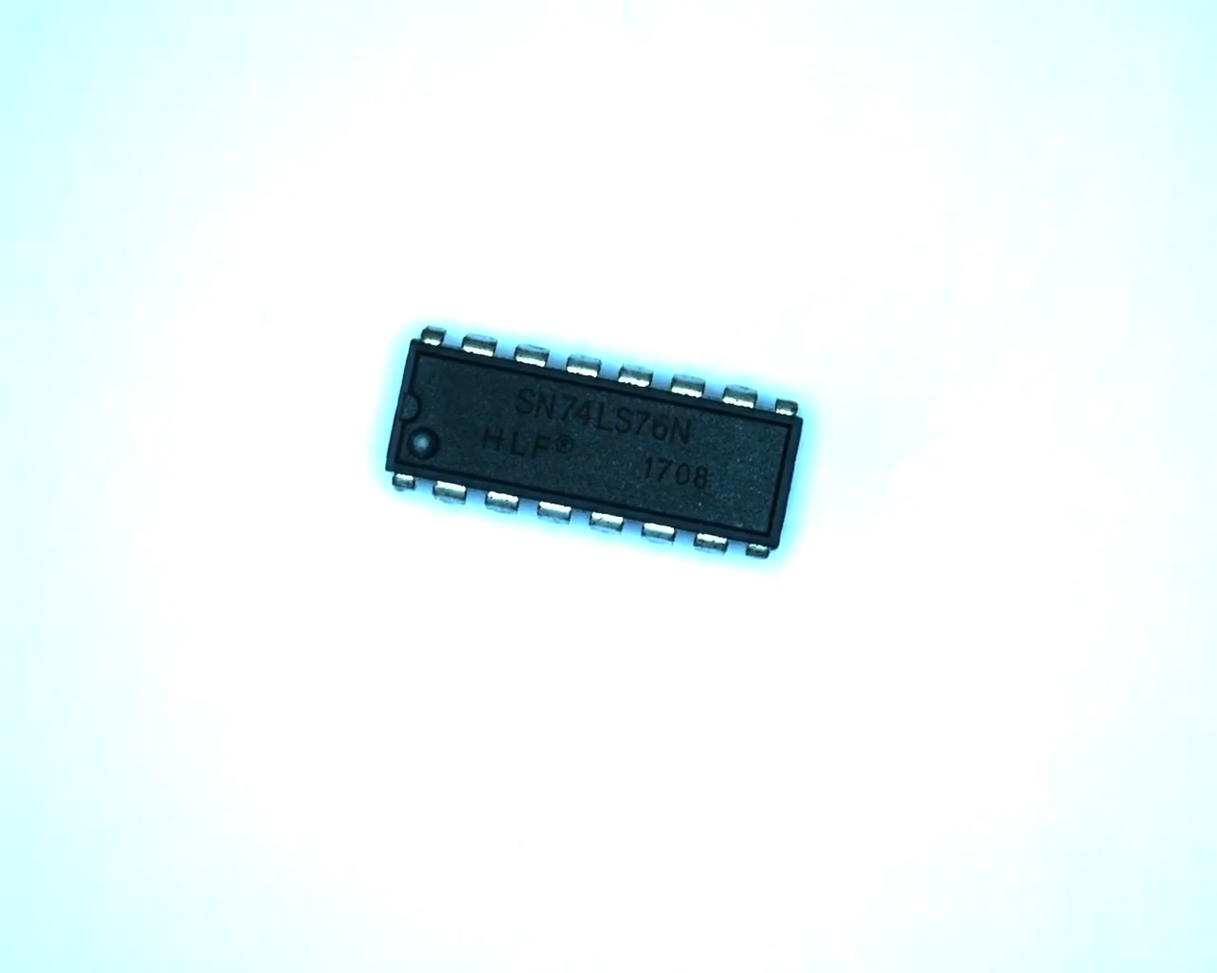IC: (381, 321, 809, 569)
notch: (394, 387, 429, 429)
